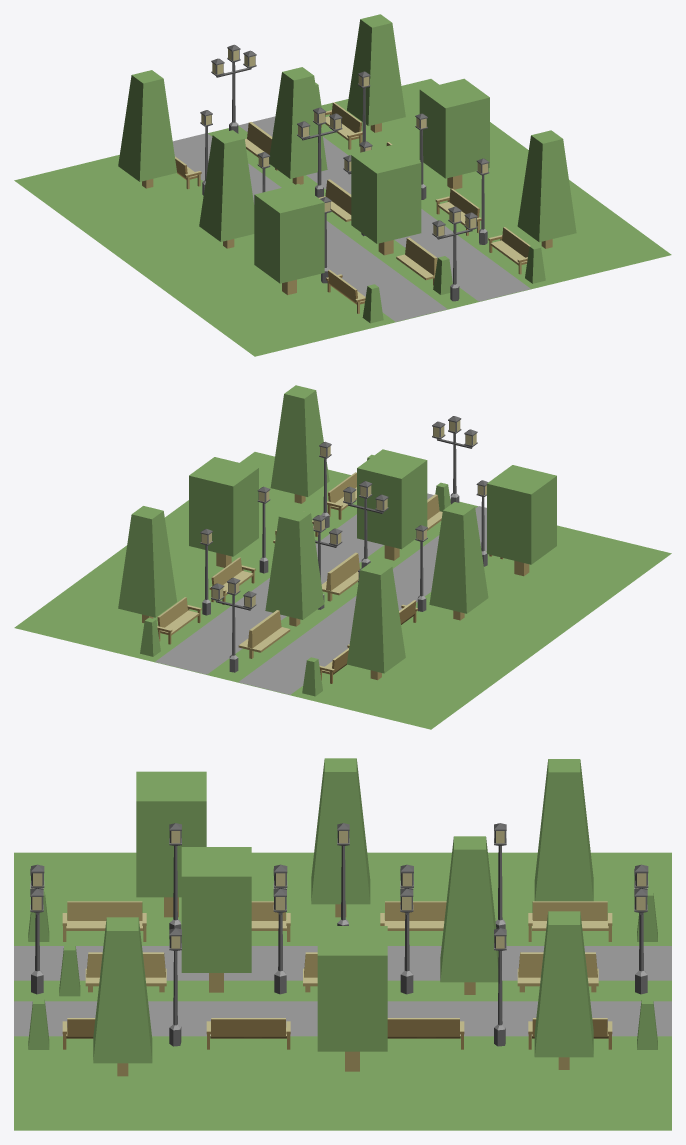
The model's file is park_001.glb.
3 renders of one model, top to bottom at view 1: azimuth 30°, elevation 25°; view 2: azimuth 150°, elevation 25°; view 3: azimuth 270°, elevation 25°, orthographic. The views are drawn at different scales.
Parts seen in each view (by area): view 1: park_001; view 2: park_001; view 3: park_001.
Part boxes in pixels (box(x1,y1,x2,y2)): park_001: box(14, 14, 671, 356); park_001: box(14, 385, 671, 729); park_001: box(14, 758, 671, 1130).
Bounding box in the file's own units: 16 × 4.17 × 16.
1 material, 1 textured.
